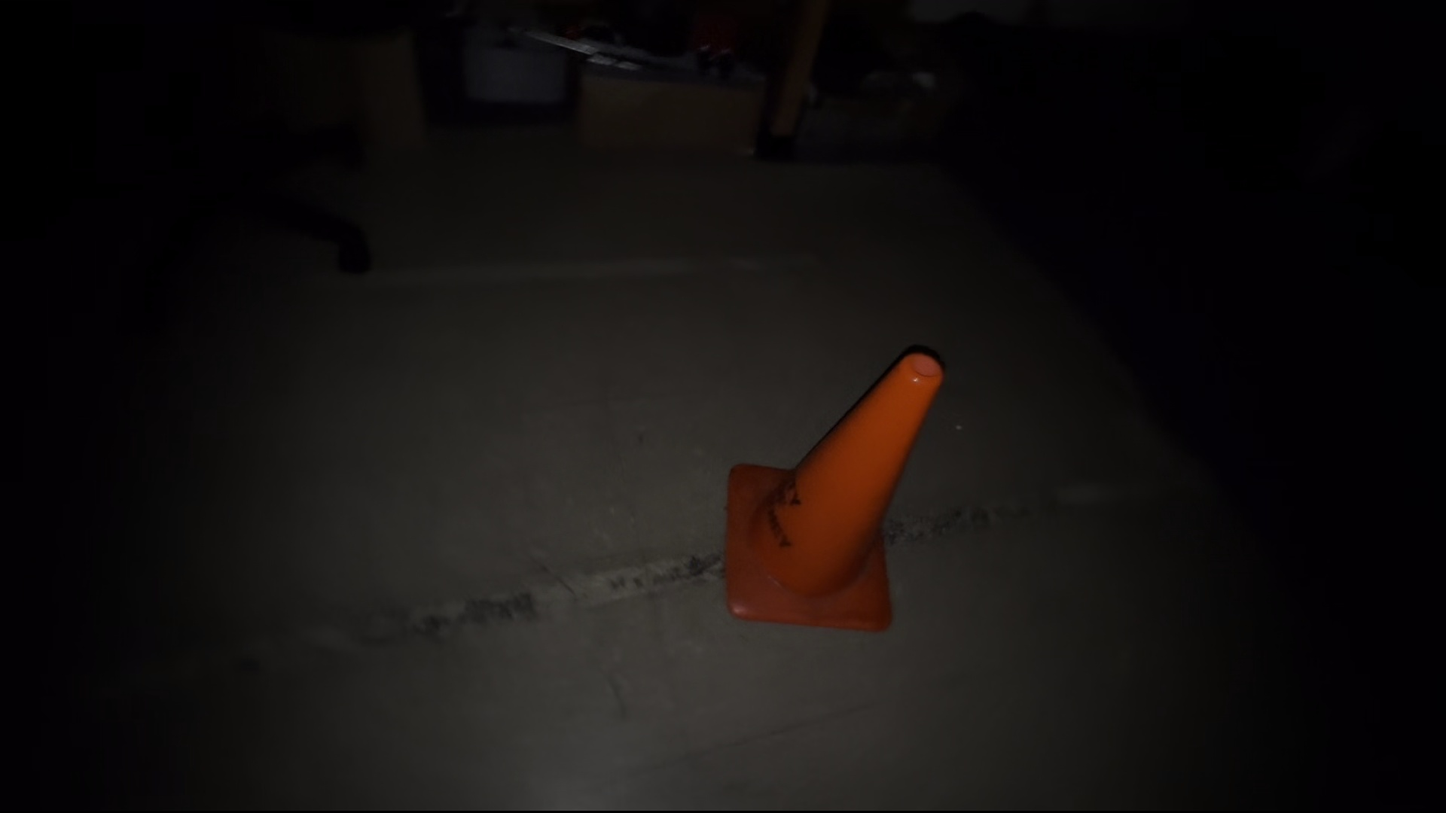traffic_cone: (723, 343, 945, 633)
